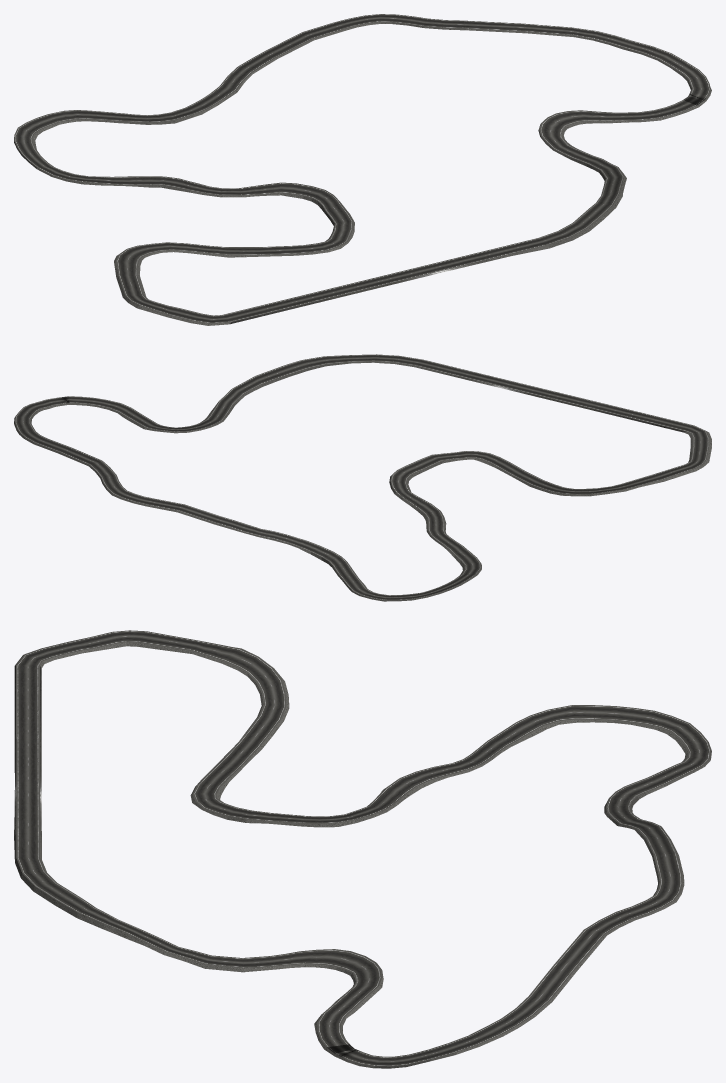
The model's file is asfalto.obj.
3 views of the same model, one above another, from view 1: azimuth 30°, elevation 25°; view 2: azimuth 150°, elevation 25°; view 3: azimuth 270°, elevation 25° (orthographic). The views are drawn at different scales.
Visible parts, largest first — view 1: asfalto_Cube.037; view 2: asfalto_Cube.037; view 3: asfalto_Cube.037.
Boxes of the visible parts, x1=… form: asfalto_Cube.037: x1=14, y1=14, x2=711, y2=325; asfalto_Cube.037: x1=14, y1=354, x2=711, y2=601; asfalto_Cube.037: x1=14, y1=630, x2=711, y2=1068.
Bounding box in the file's own units: 1069 × 56.49 × 762.
Materials: 1 (1 with a texture image).
